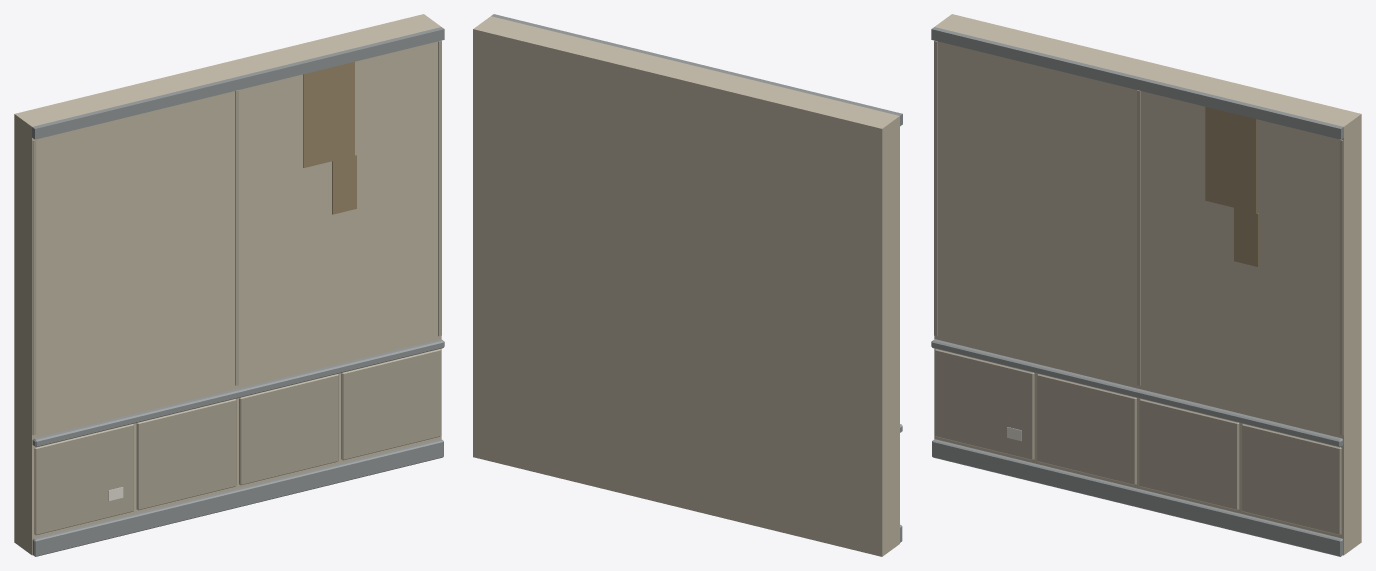
Rendered from wall_an_office.glb.
The picture shows the model from 3 angles, left to right: view 1: azimuth 30°, elevation 25°; view 2: azimuth 150°, elevation 25°; view 3: azimuth 330°, elevation 25°; orthographic projection.
Visible parts, largest first — view 1: wall_an_office; view 2: wall_an_office; view 3: wall_an_office.
Boxes of the visible parts, x1=… form: wall_an_office: x1=14, y1=14, x2=444, y2=556; wall_an_office: x1=473, y1=14, x2=902, y2=556; wall_an_office: x1=931, y1=14, x2=1361, y2=556.
Size of the model in its own units: 4 by 4 by 0.36.
